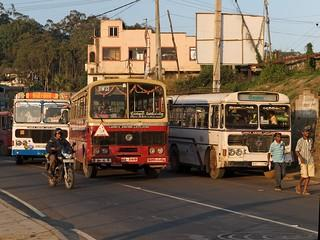bus: (173, 92, 294, 178), (73, 75, 169, 179)
motorbike: (40, 150, 80, 190)
truck: (11, 86, 71, 161)
